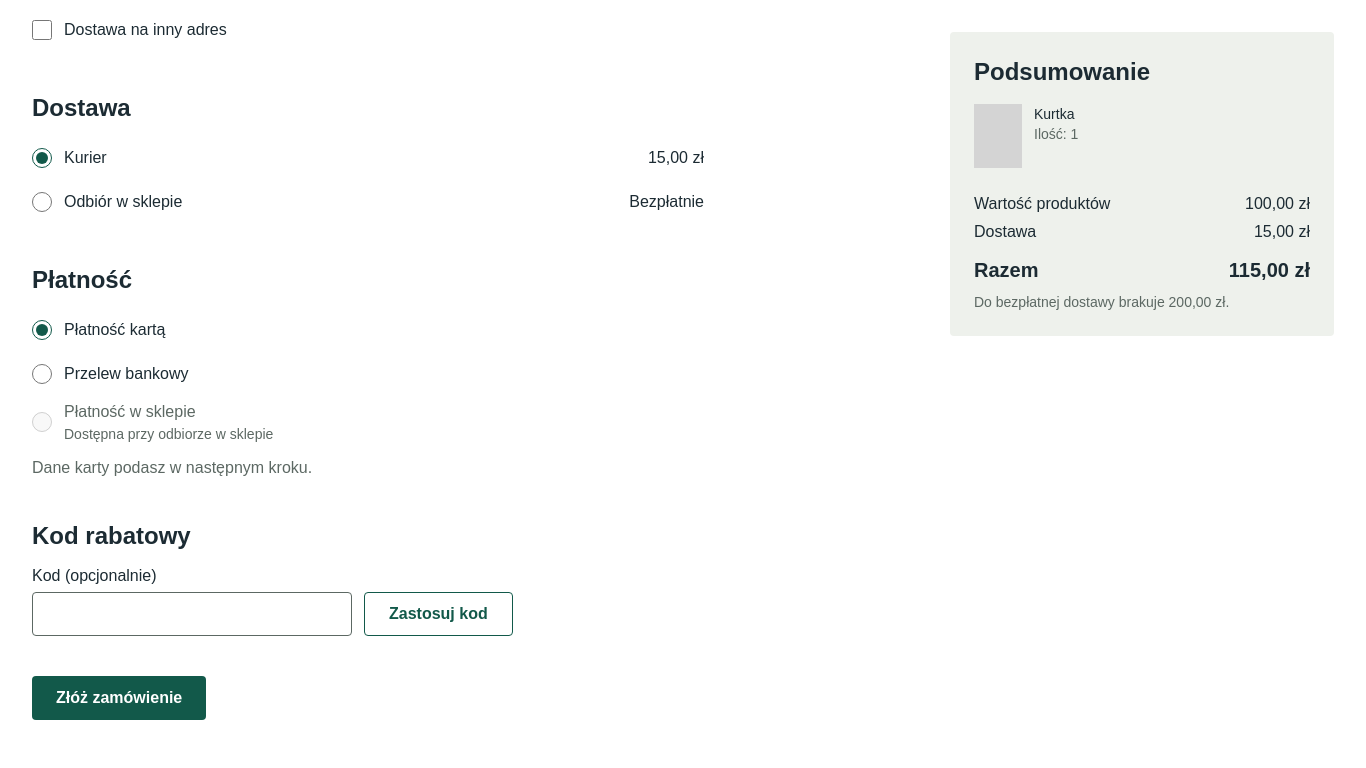
Test: the quote behind the order › blocks the order when a product is not available
(page scrolled)
Click the button "Złóż zamówienie".
click(119, 698)  # box [32,676,206,720]
(page scrolled)
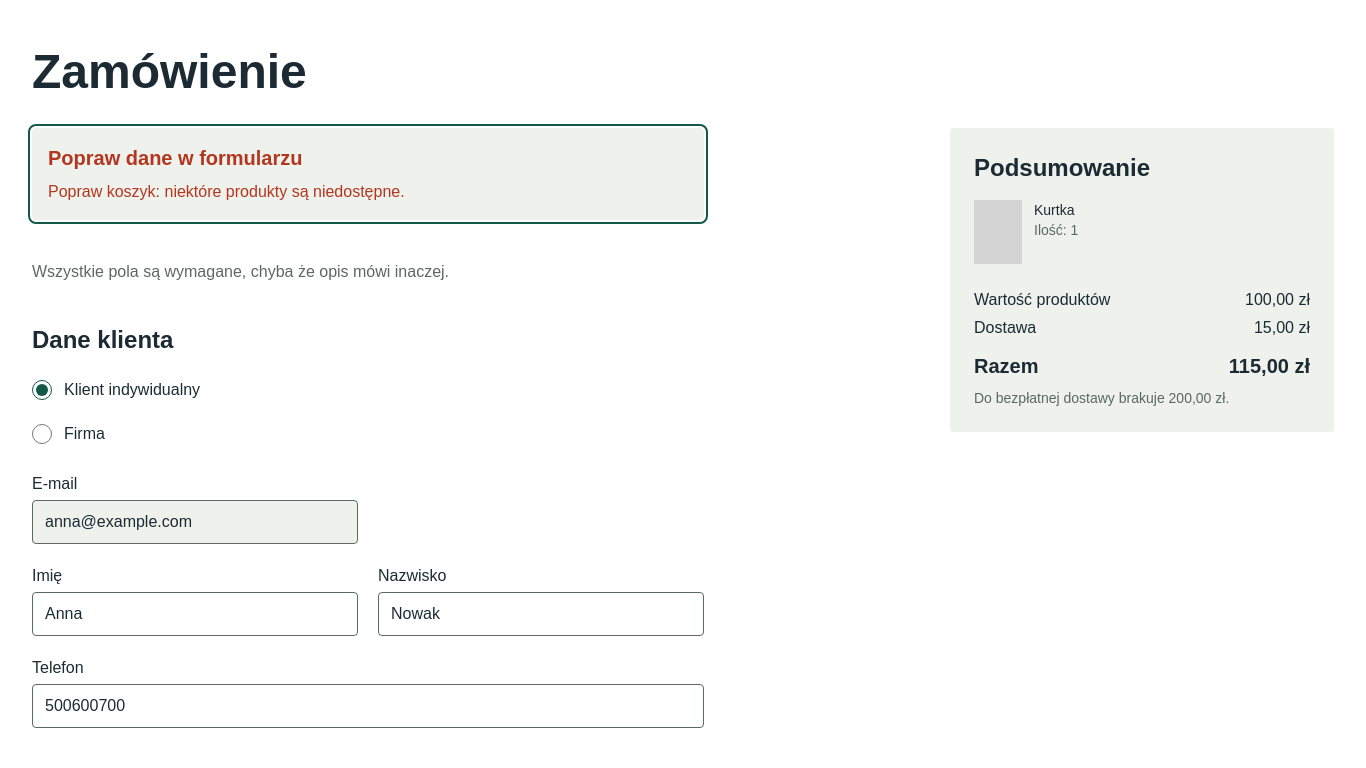
Check: the text "Popraw koszyk: niektóre produkty są niedostępne." is shown, box [48,183,405,200]
